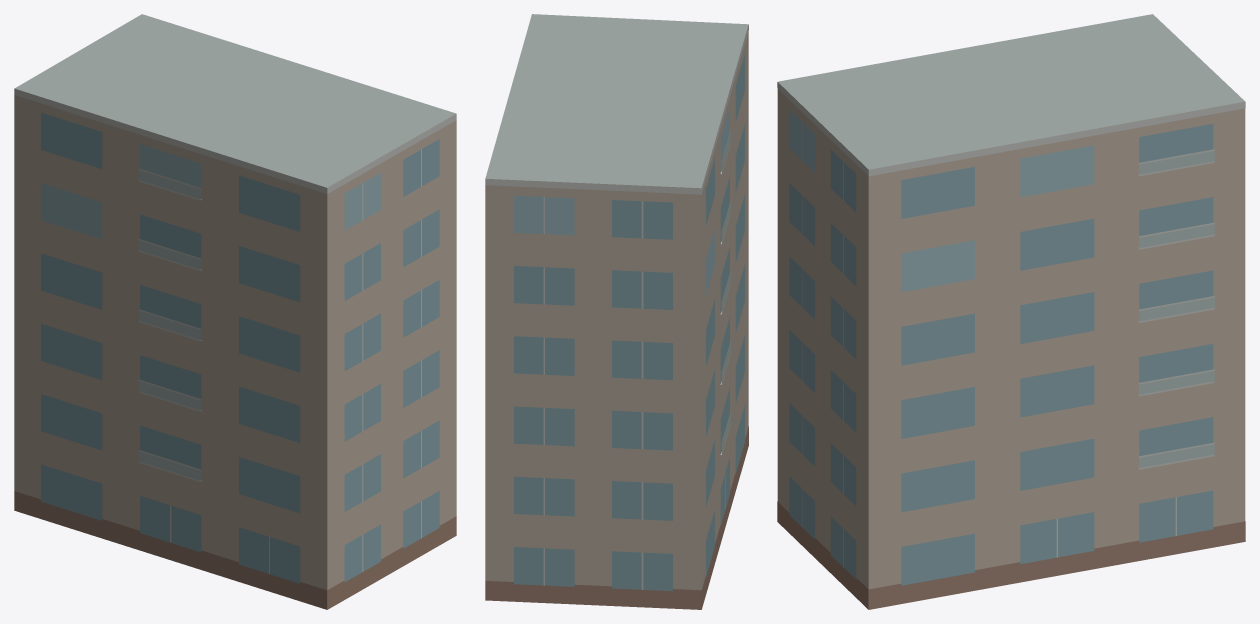
Rendered from survey-upis-33019790.glb.
3 views of the same model, side by side, from view 1: azimuth 30°, elevation 25°; view 2: azimuth 150°, elevation 25°; view 3: azimuth 270°, elevation 25° (orthographic). The views are drawn at different scales.
Parts seen in each view (by area): view 1: survey-upis-33019790.tmp; view 2: survey-upis-33019790.tmp; view 3: survey-upis-33019790.tmp.
Boxes of the visible parts, x1,y1,x2,y2 form: survey-upis-33019790.tmp: (14, 14, 456, 609); survey-upis-33019790.tmp: (485, 14, 748, 609); survey-upis-33019790.tmp: (777, 14, 1245, 609).
Bounding box in the file's own units: 12.3 × 16.2 × 15.62.
